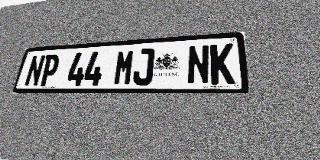4: (82, 51, 105, 86), (66, 52, 88, 86)
J: (132, 48, 155, 85)
K: (210, 43, 235, 84)
M: (113, 49, 135, 86)
N: (187, 45, 210, 85), (24, 55, 46, 87)
P: (38, 54, 61, 86)
